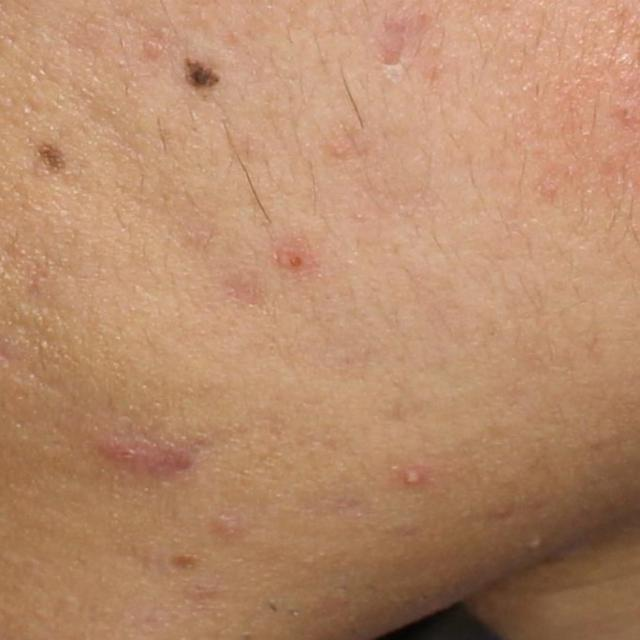nodules: (81, 423, 220, 489)
